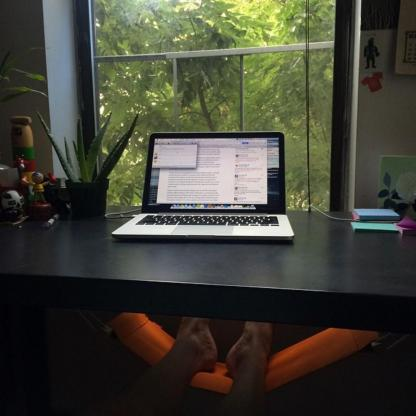board: (112, 127, 293, 242)
